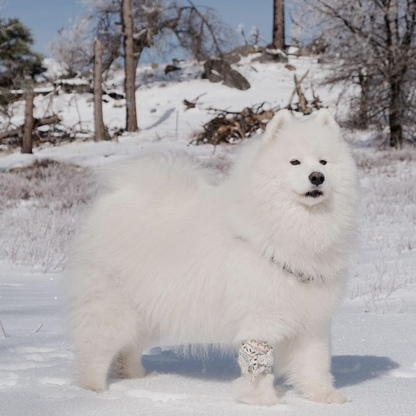samoyed: (59, 104, 363, 408)
